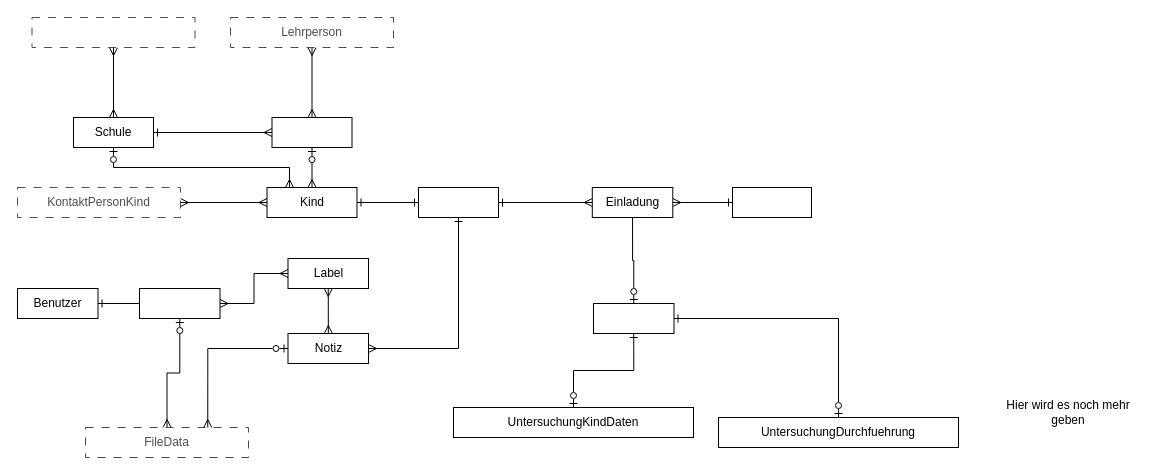
Image size: 1161x475. Some labels were removed from this diagram. Each missing label, with the centre of its shape:
Anlass: the point at 772,202
Aufgabe: the point at 179,303
Dossier: the point at 458,202
Klasse: the point at 311,132
KontaktPersonSchule: the point at 113,32
Untersuchung: the point at 633,318
